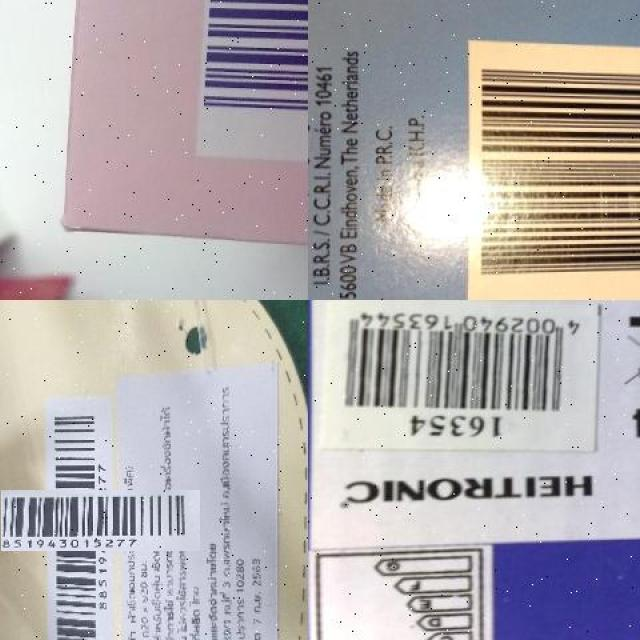Barcode: (471, 37, 640, 299), (320, 300, 603, 455), (5, 445, 155, 596), (195, 0, 309, 165)
